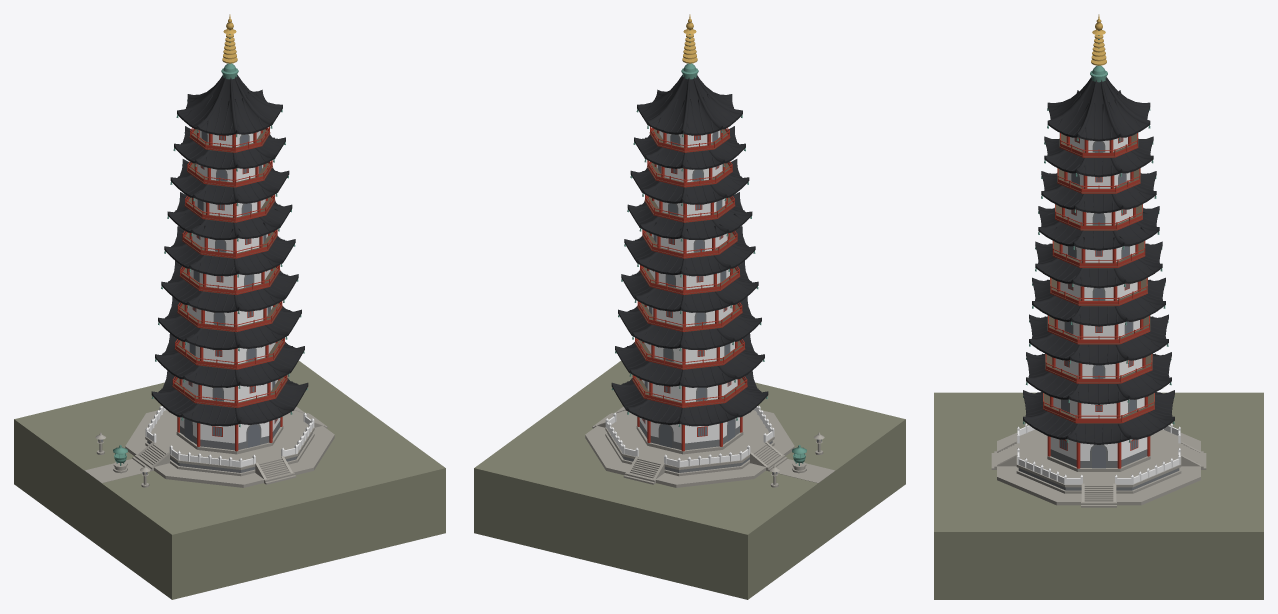
File: top-prebuilt_close.fbx
3 views of the same model, side by side, from view 1: azimuth 30°, elevation 25°; view 2: azimuth 150°, elevation 25°; view 3: azimuth 270°, elevation 25° (orthographic). The views are drawn at different scales.
Parts seen in each view (by area): view 1: landmark-octagonal_pagoda/0/top-prebuilt_close; view 2: landmark-octagonal_pagoda/0/top-prebuilt_close; view 3: landmark-octagonal_pagoda/0/top-prebuilt_close.
Part boxes in pixels (bbox=[...]): landmark-octagonal_pagoda/0/top-prebuilt_close: bbox=[14, 14, 445, 599]; landmark-octagonal_pagoda/0/top-prebuilt_close: bbox=[474, 14, 905, 599]; landmark-octagonal_pagoda/0/top-prebuilt_close: bbox=[934, 14, 1263, 599].
Size of the model in its own units: 44 by 76 by 44.
